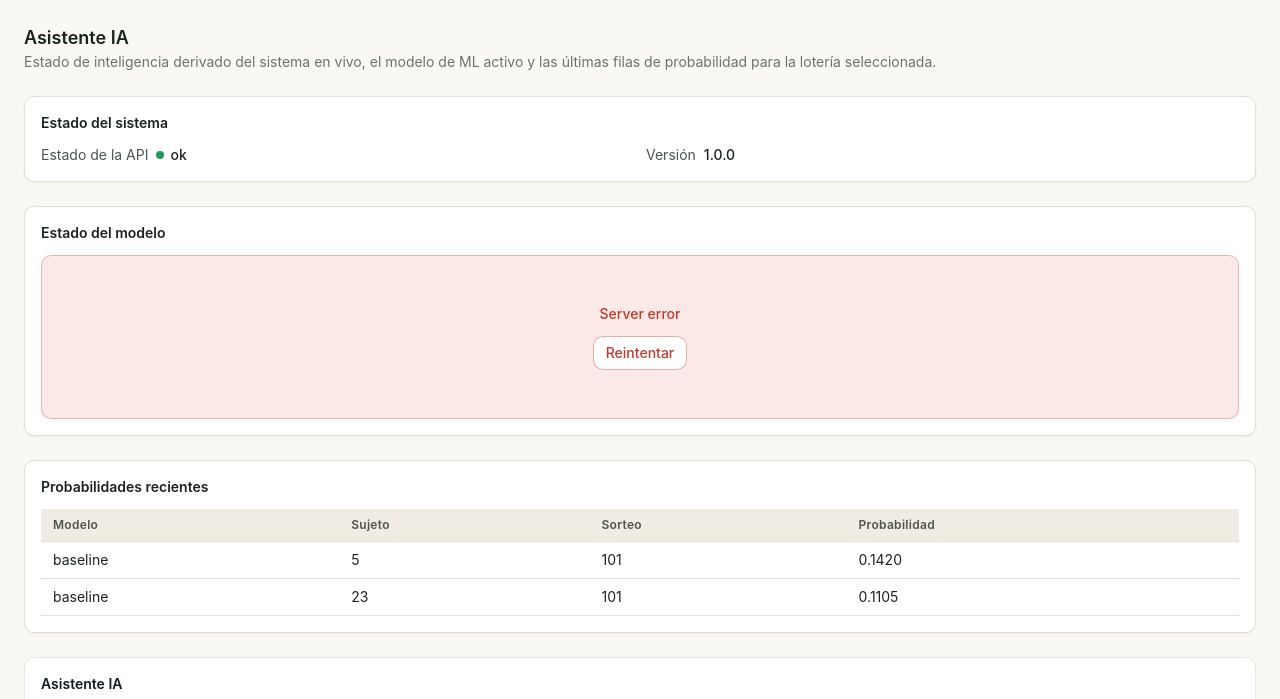
Test case: IA › shows an error with retry for the model section and recovers
The image size is (1280, 699).
Expected: the message shows "Server error", [600,305,680,322]
What coordinates should you click on to do the following:
click the button "Reintentar"
I would click on:
 (640, 353)
Its box is [593,336,687,370].
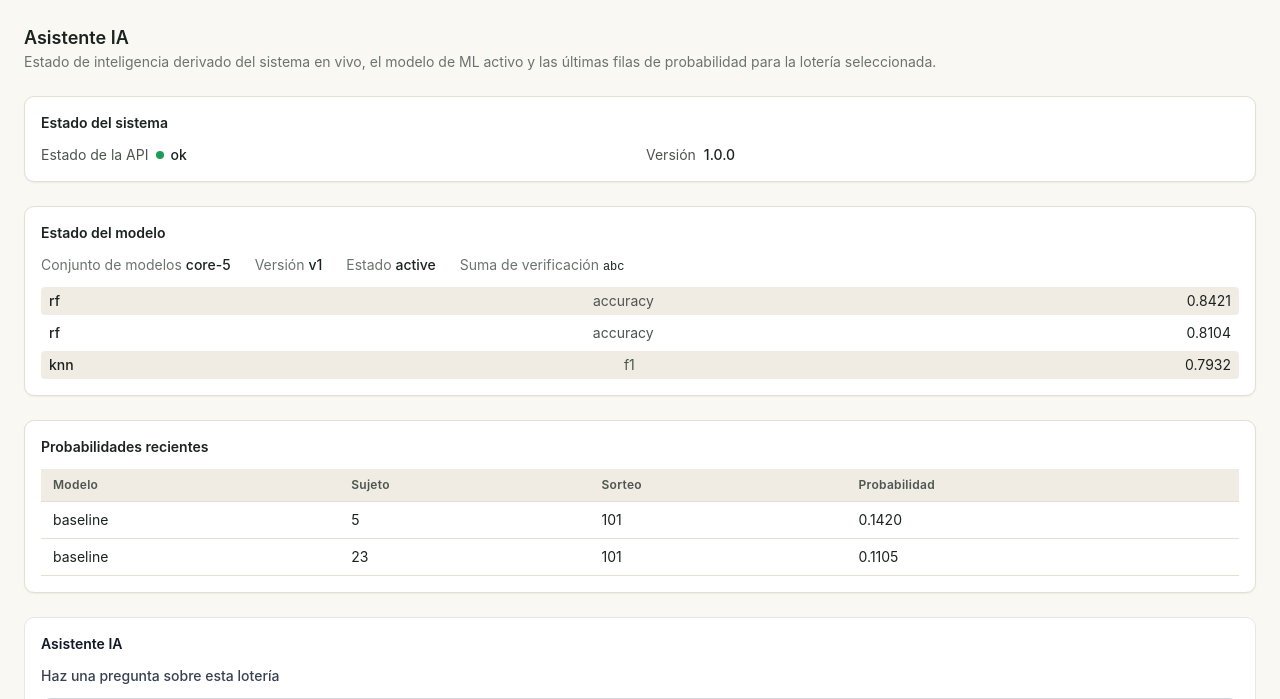
Expected: the text "core-5" is shown, [186,256,231,273]
Expected: the message "Server error Reintentar" is gone
